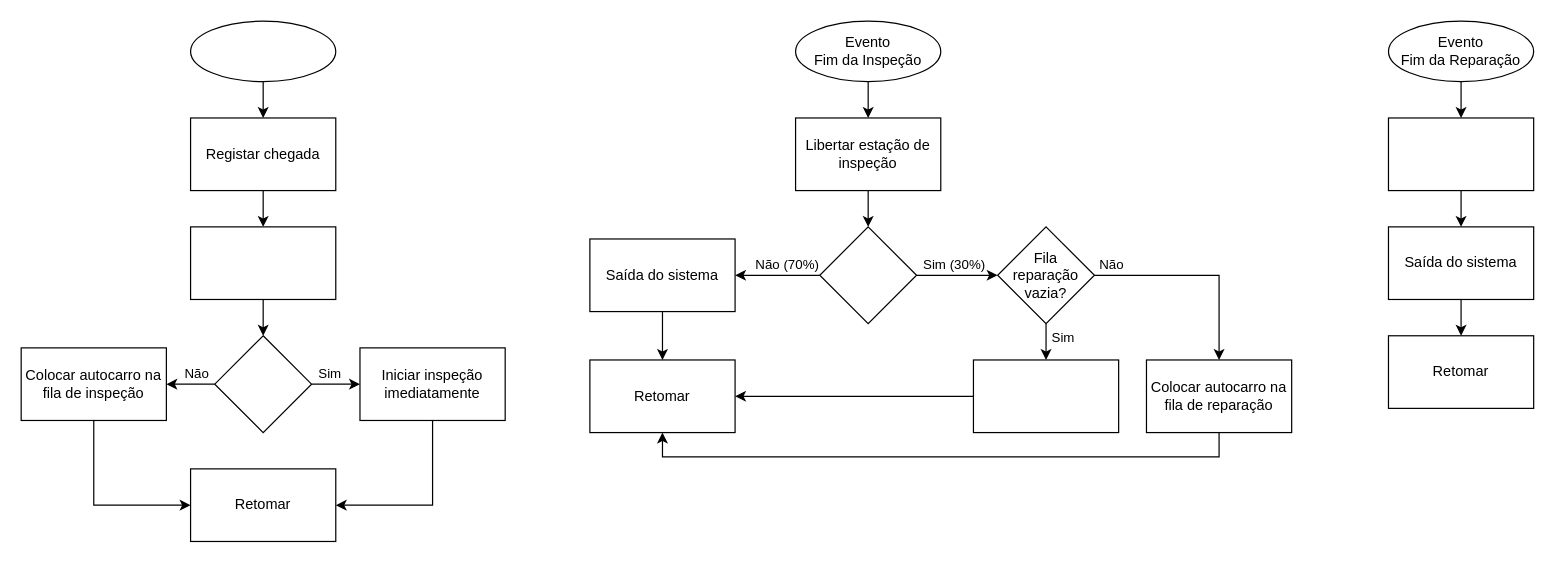
The diagram is 1555 pixels wide and 563 high, and some of its shapes have lost their labels. Each missing label, with the box of its shape:
Agendar próxima chegada: (189, 226, 336, 299)
Evento Chegada de Autocarro: (189, 20, 336, 82)
Fila inspeção vazia?: (214, 335, 312, 433)
Iniciar reparação imediatamente: (972, 359, 1119, 433)
Libertar estação de reparação: (1387, 117, 1534, 191)
Necessita reparo?: (819, 226, 917, 324)
